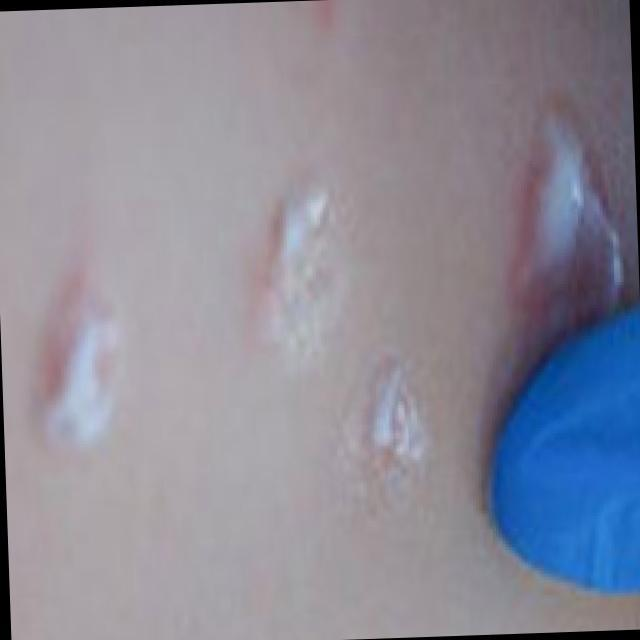Eczema: (250, 178, 435, 478), (512, 92, 630, 338), (33, 278, 137, 440)
